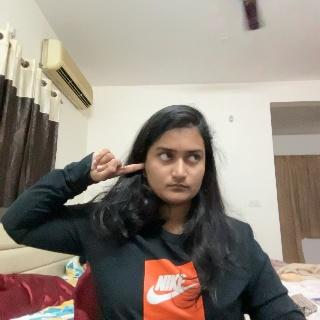Deaf: (84, 146, 148, 184)
Face: (147, 107, 207, 205)
